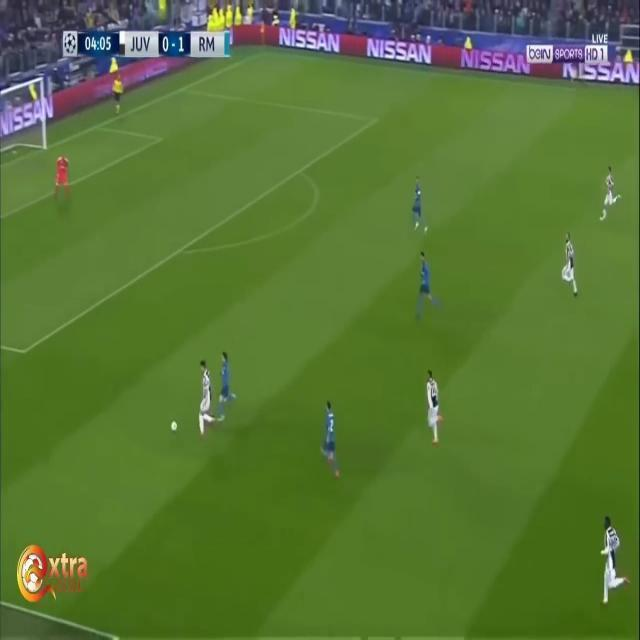Ballon: (169, 417, 181, 440)
Gardien: (51, 141, 80, 212)
Joueur: (598, 510, 631, 623), (416, 360, 447, 457), (212, 335, 240, 432), (317, 393, 342, 485), (190, 350, 214, 438), (556, 221, 580, 305), (413, 243, 435, 322), (599, 156, 621, 235), (409, 169, 430, 240)
